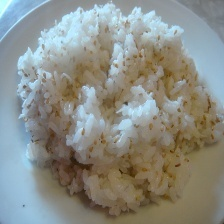rice: (16, 3, 224, 215)
